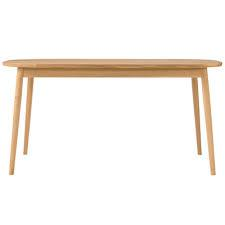desk: (2, 35, 221, 185)
